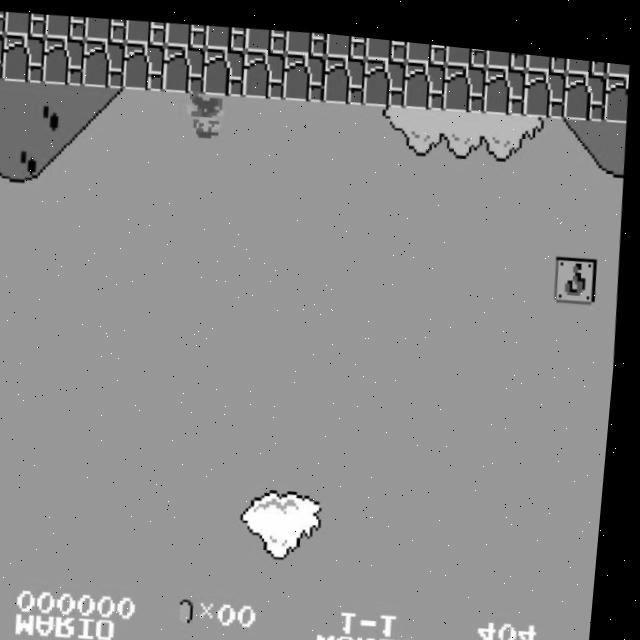11- little_mario: (182, 84, 231, 138)
13- mystery_block: (556, 242, 602, 293)
17- undestructible_block: (121, 38, 168, 89), (161, 40, 208, 91), (201, 42, 248, 92), (522, 57, 569, 107), (562, 59, 609, 109), (41, 34, 87, 85), (81, 36, 127, 87), (362, 49, 408, 100), (402, 51, 448, 102), (482, 55, 528, 106), (1, 33, 47, 83), (242, 44, 288, 94), (282, 46, 328, 96), (322, 48, 368, 98), (442, 53, 488, 103), (603, 61, 630, 110), (204, 19, 248, 47), (244, 21, 288, 49), (284, 23, 328, 51), (84, 14, 128, 41), (124, 16, 168, 43), (164, 18, 208, 45), (4, 10, 47, 37), (44, 12, 87, 39), (323, 27, 367, 52), (364, 30, 407, 54), (404, 33, 447, 55), (444, 36, 487, 58), (484, 40, 527, 60), (524, 43, 567, 61), (564, 46, 607, 64), (605, 49, 629, 64), (0, 33, 6, 81), (0, 11, 6, 35)
